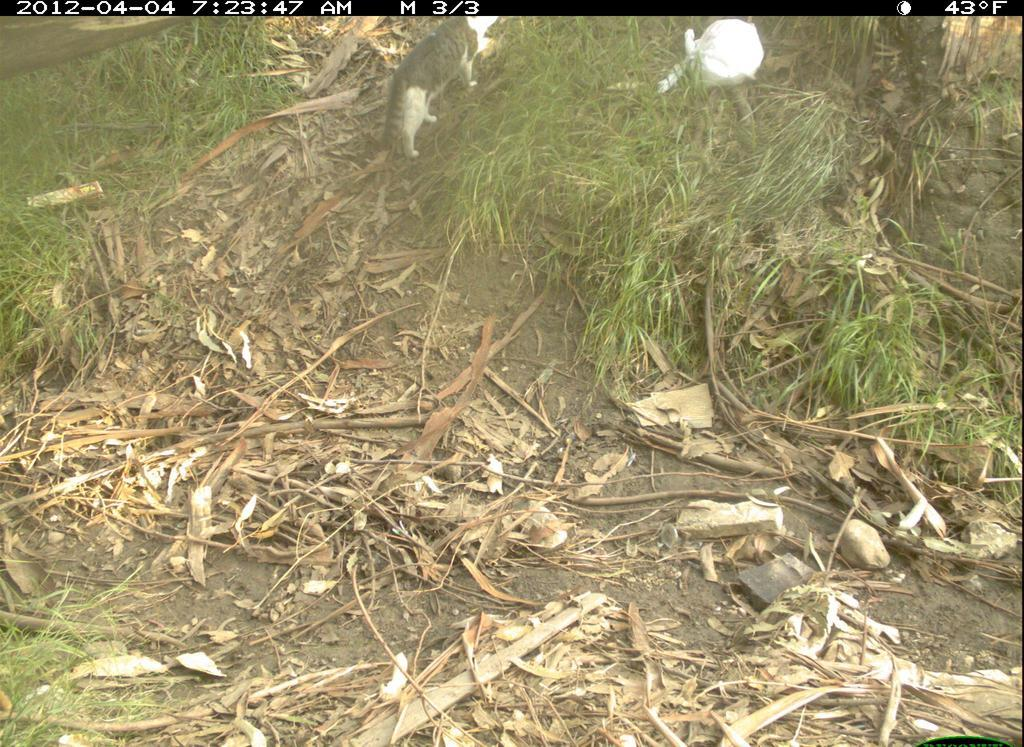cat: (378, 13, 505, 168)
